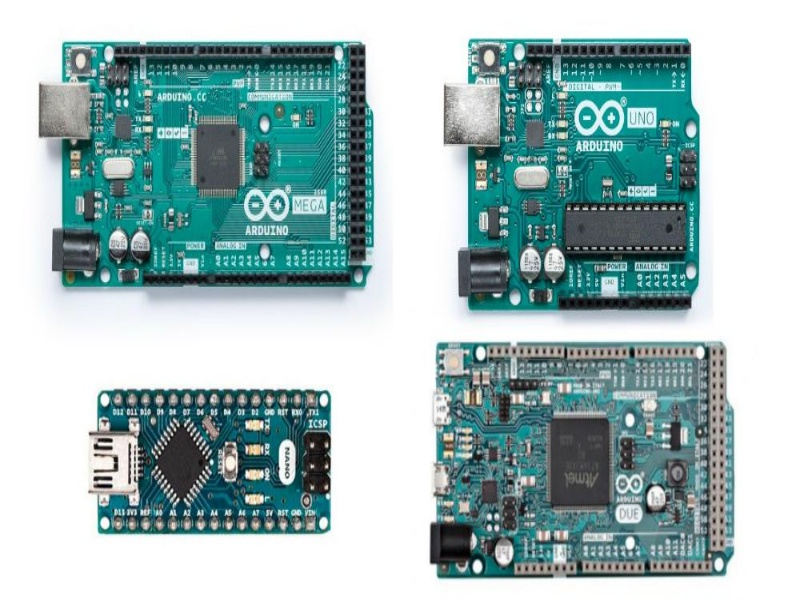uno: (440, 46, 708, 317)
